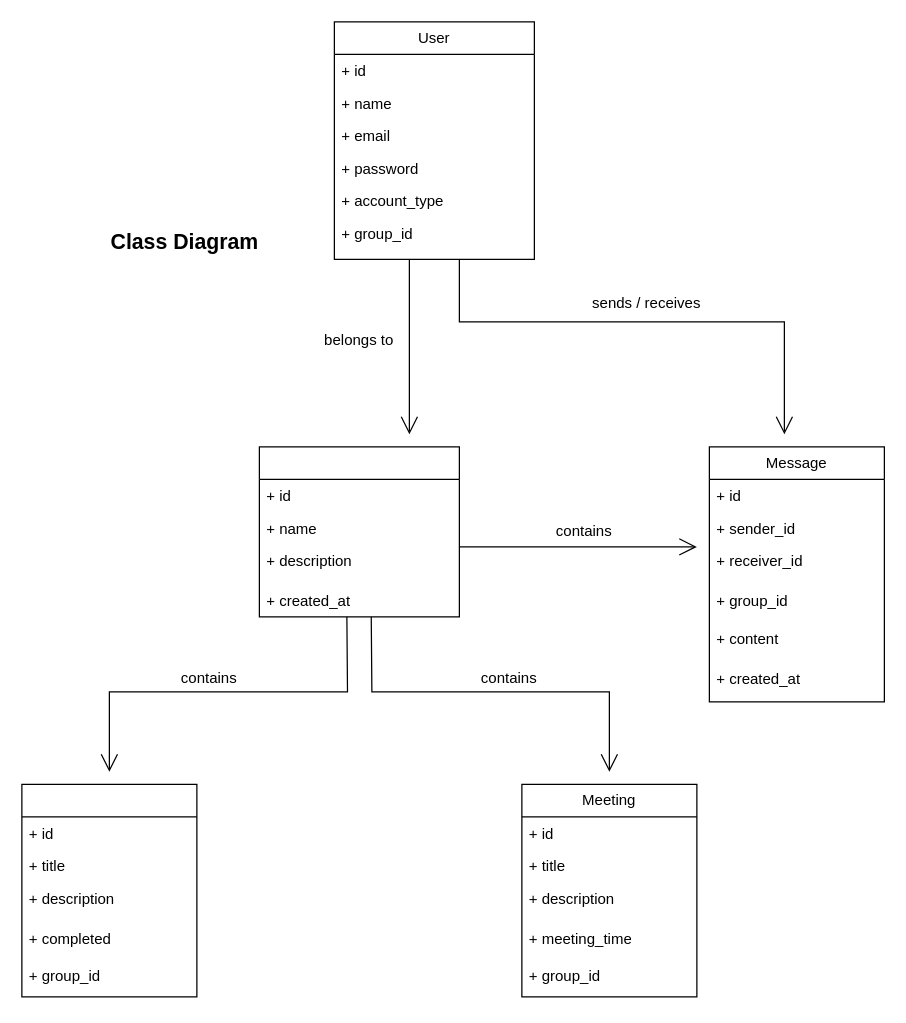
Image size: 906x1023. Some labels were removed from this diagram. Each missing label, with the box of its shape:
Group: (258, 446, 459, 617)
Task: (21, 783, 197, 997)
